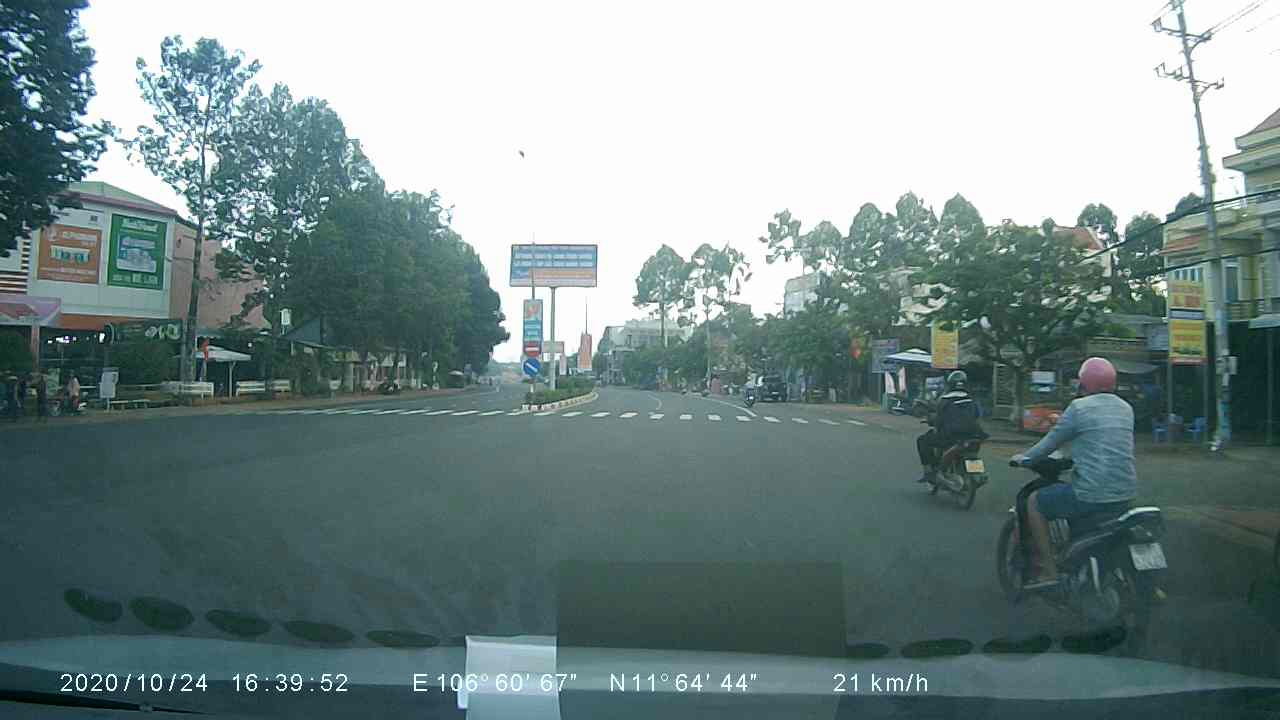Cam di nguoc chieu: (520, 336, 544, 358)
Huong di phai re phai: (520, 356, 541, 379)
